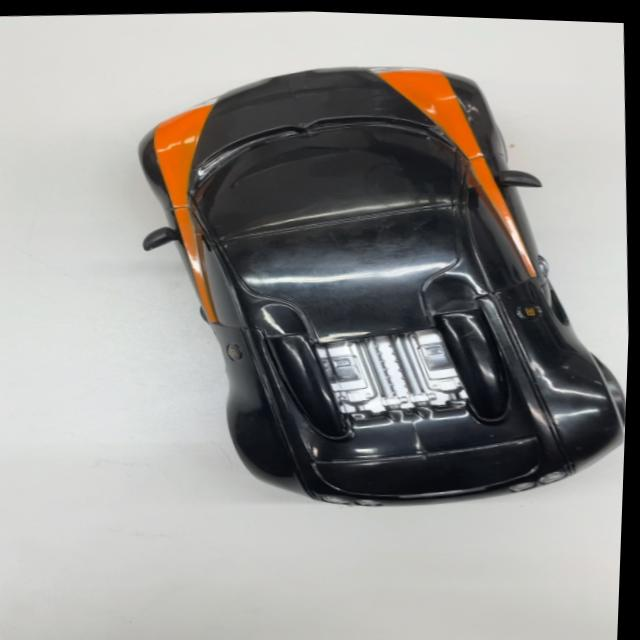vehicle_body: (130, 43, 639, 530)
